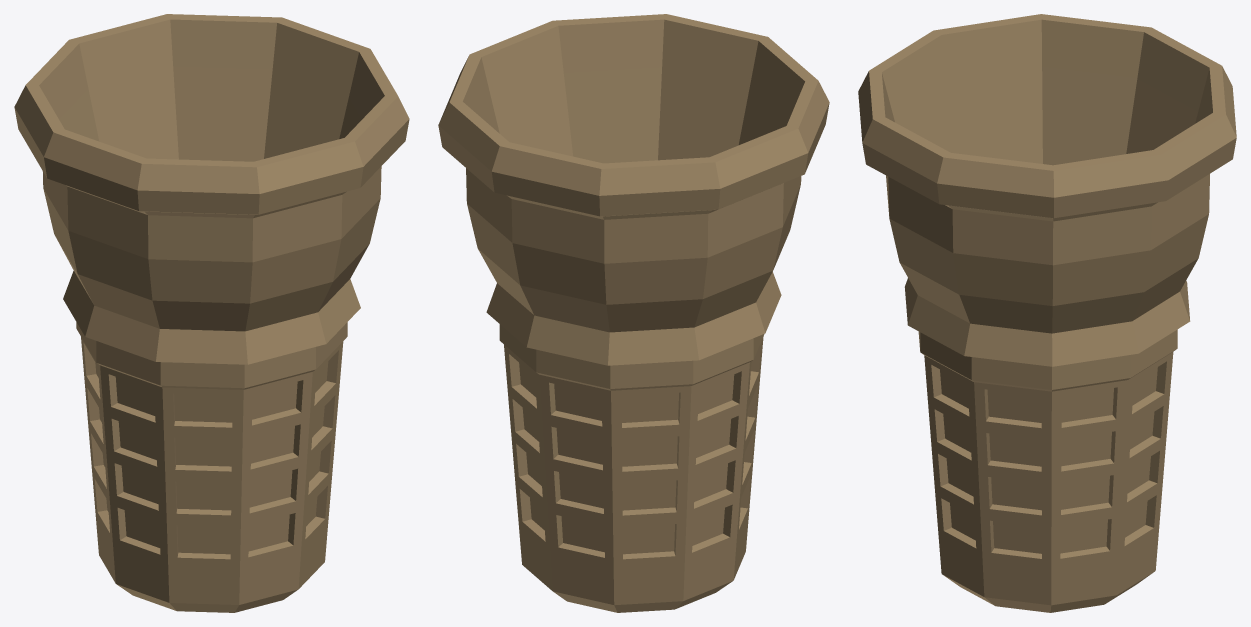
File: icecream-cone2-f6c04d18d7.glb
3 views of the same model, side by side, from view 1: azimuth 30°, elevation 25°; view 2: azimuth 150°, elevation 25°; view 3: azimuth 270°, elevation 25° (orthographic).
Parts seen in each view (by area): view 1: IceCream_Cone2.obj; view 2: IceCream_Cone2.obj; view 3: IceCream_Cone2.obj.
Boxes of the visible parts, x1,y1,x2,y2 form: IceCream_Cone2.obj: (14,14,409,612); IceCream_Cone2.obj: (438,14,829,612); IceCream_Cone2.obj: (858,14,1236,612).
Size of the model in its own units: 0.4668 by 0.6297 by 0.4488.
